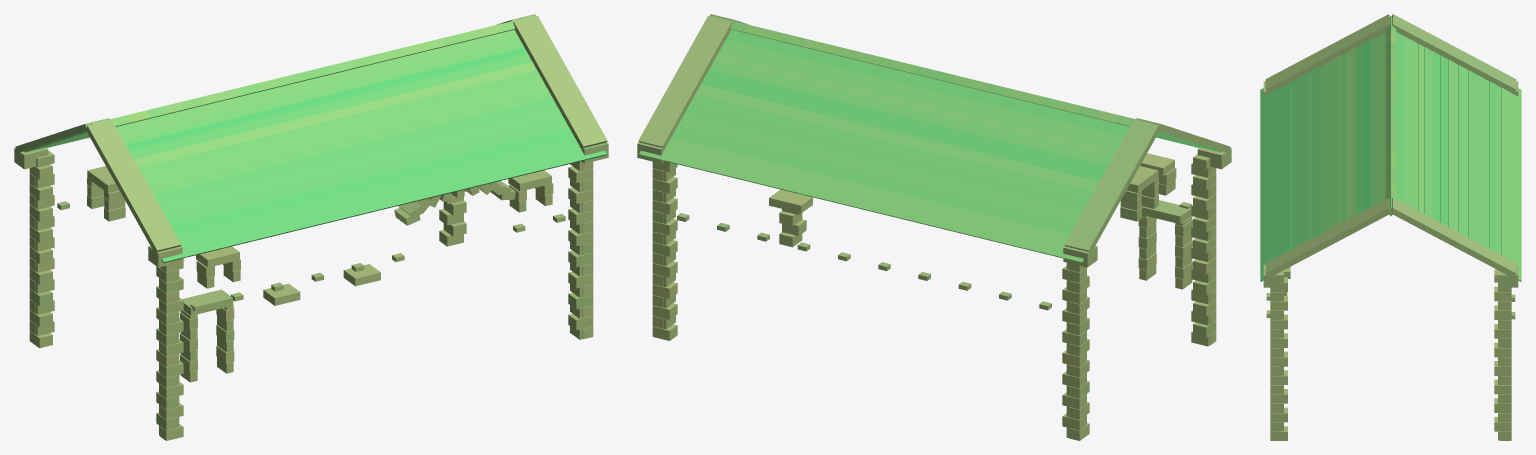
Rendered from SM_Bld_013_Stone.glb.
3 renders of one model, left to right at view 1: azimuth 30°, elevation 25°; view 2: azimuth 150°, elevation 25°; view 3: azimuth 270°, elevation 25°, orthographic. The views are drawn at different scales.
Parts seen in each view (by area): view 1: SM_Bld_013_Stone; view 2: SM_Bld_013_Stone; view 3: SM_Bld_013_Stone.
Part boxes in pixels (x1=…): SM_Bld_013_Stone: x1=14, y1=14, x2=608, y2=440; SM_Bld_013_Stone: x1=637, y1=14, x2=1231, y2=440; SM_Bld_013_Stone: x1=1260, y1=14, x2=1521, y2=440.
Bounding box in the file's own units: 13.42 × 7.66 × 7.64.
